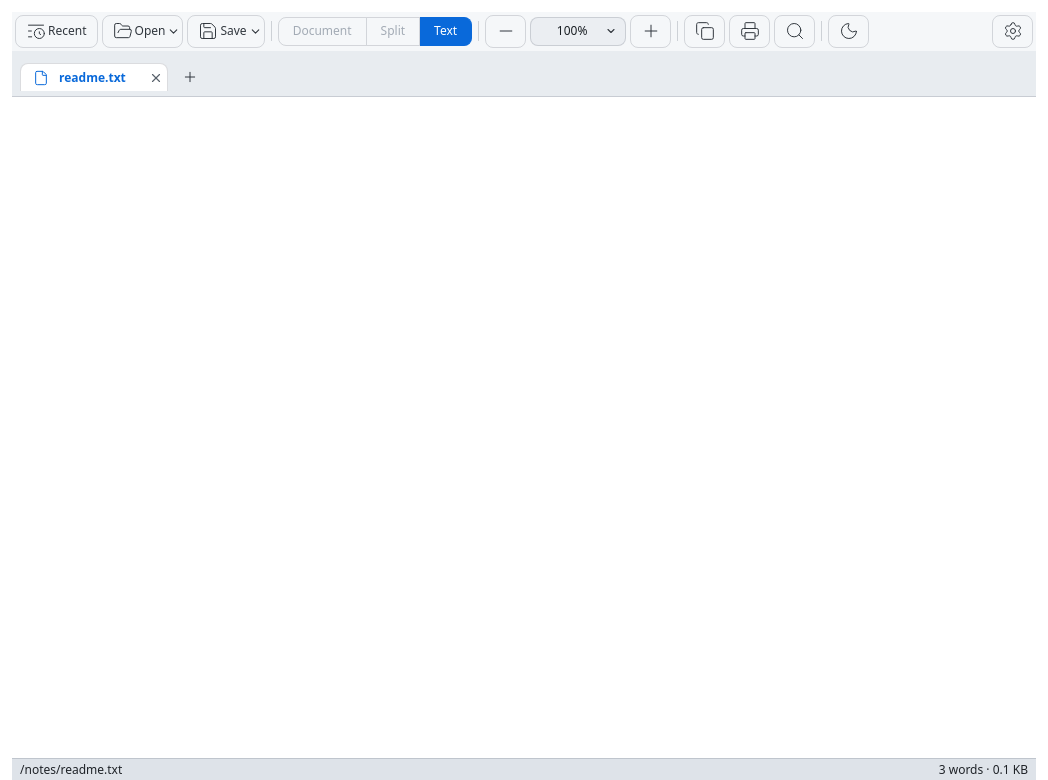
App shell › offers a text file the Text view alone, with its word count and a copy of its text
Check: the radio buttons read "Document", "Split", "Text", in this order, box 278,16 -> 366,46; 367,16 -> 420,46; 420,16 -> 472,46
Check: the text with class "status-right" shows "3 words ·", box 939,760 -> 993,778
Click the button named "Copy" at {"x": 705, "y": 31}, box 684,14 -> 725,48
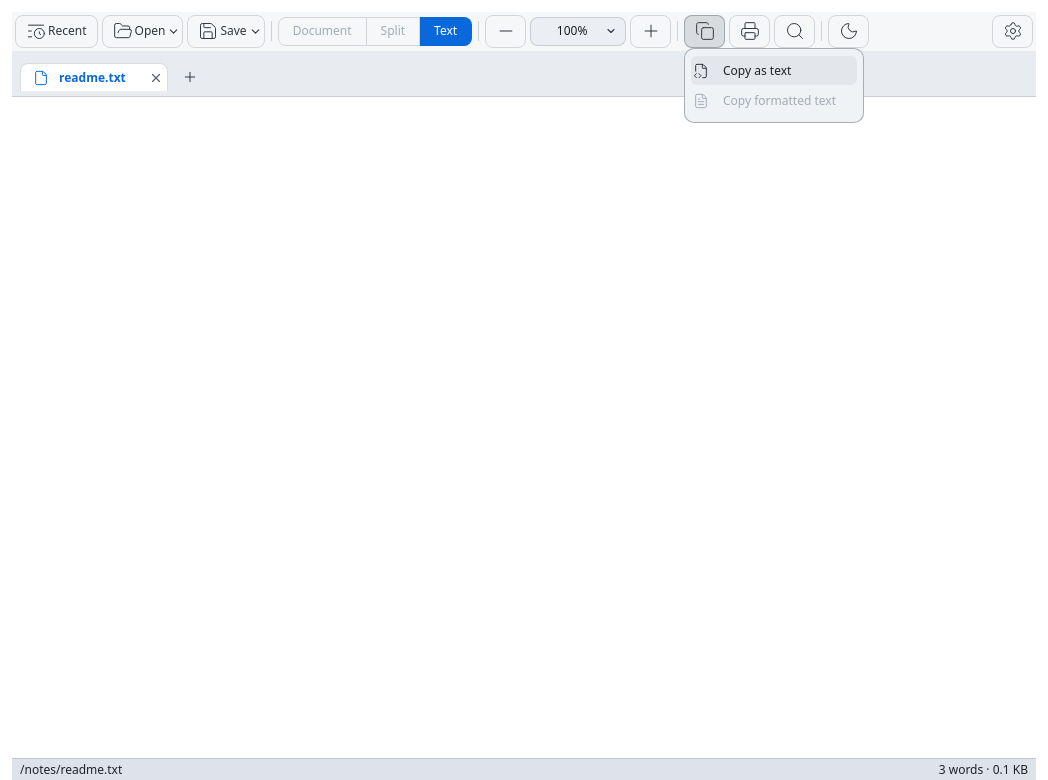
Check: the menu items read "Copy as text", "Copy formatted text", in this order, box 691,56 -> 857,85; 691,86 -> 857,115
Check: the menu item "Copy formatted text" is disabled, box 691,86 -> 857,115
